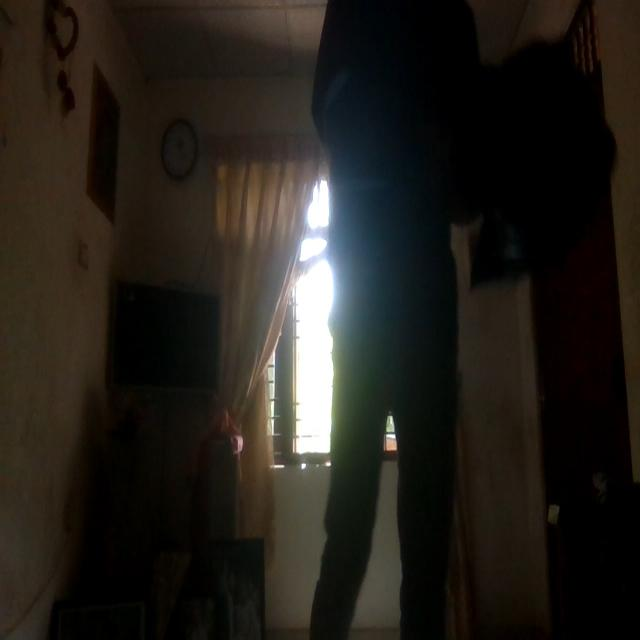Helmet_Wearer: (320, 0, 474, 304)
Person: (313, 0, 491, 640)
